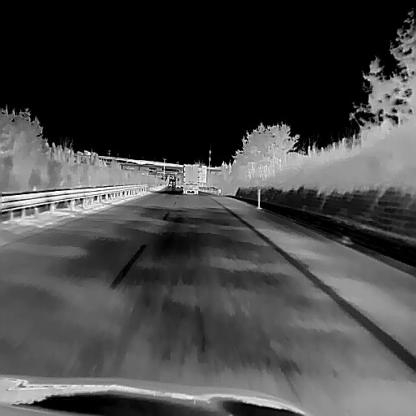truck: (182, 162, 199, 193)
